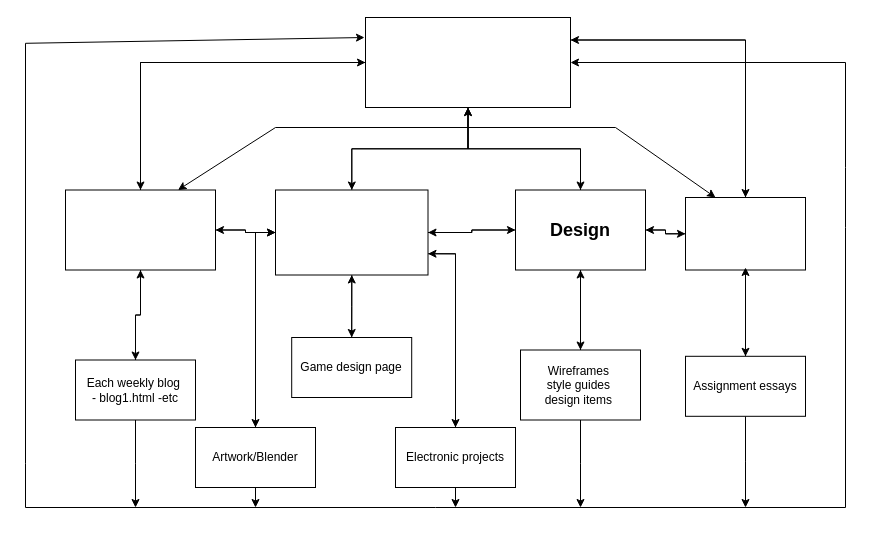
Image size: 872x534. Some labels were removed from this diagram. Here are the shapes that lost their labels. From the top down, the centre of each, then its label:
point 467,62: HOMEPAGE profile decription(info abt me)
point 140,229: Blogs
point 351,232: portfolio
point 745,233: Essays
